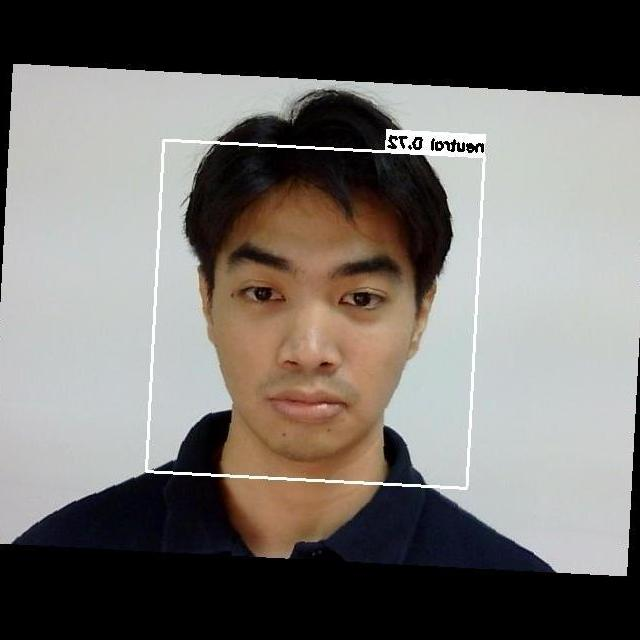Fear: (196, 218, 416, 448)
